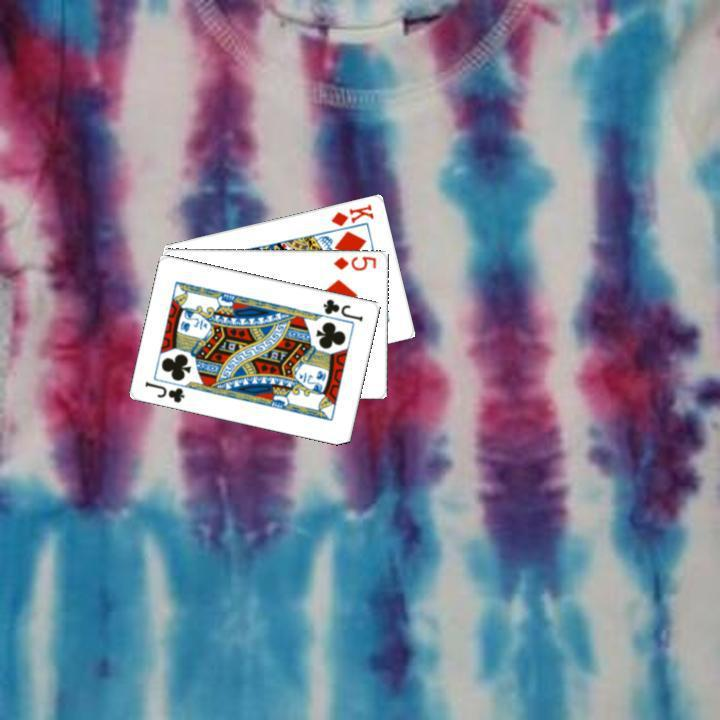5: (330, 251, 378, 272)
J: (319, 294, 365, 323), (141, 376, 187, 405)
K: (326, 200, 376, 228)
